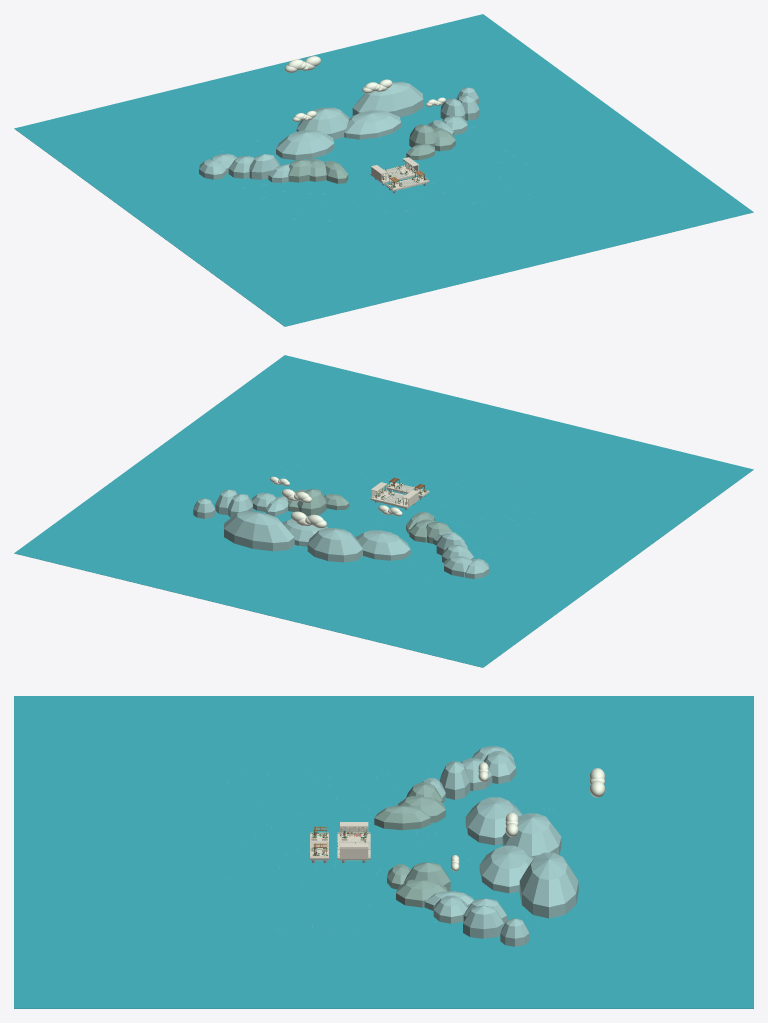
The model's file is coast.glb.
The picture shows the model from 3 angles, top to bottom: view 1: azimuth 30°, elevation 25°; view 2: azimuth 150°, elevation 25°; view 3: azimuth 270°, elevation 25°; orthographic projection. The views are drawn at different scales.
Parts seen in each view (by area): view 1: coast_background_sea, coast_background_distant, coast_background_rock, coast_background_cloud, coast_architecture_limestone; view 2: coast_background_sea, coast_background_distant, coast_background_rock, coast_background_cloud, coast_architecture_limestone; view 3: coast_background_sea, coast_background_distant, coast_background_rock, coast_architecture_limestone, coast_background_cloud.
Part boxes in pixels (bbox=[...]): coast_background_sea: bbox=[14, 14, 753, 326]; coast_background_distant: bbox=[199, 82, 479, 182]; coast_background_rock: bbox=[288, 124, 455, 183]; coast_background_cloud: bbox=[284, 56, 445, 121]; coast_architecture_limestone: bbox=[370, 157, 429, 190]; coast_background_sea: bbox=[14, 355, 753, 667]; coast_background_distant: bbox=[193, 489, 489, 578]; coast_background_rock: bbox=[287, 489, 452, 543]; coast_background_cloud: bbox=[270, 476, 402, 528]; coast_architecture_limestone: bbox=[370, 482, 429, 508]; coast_background_sea: bbox=[14, 696, 753, 1008]; coast_background_distant: bbox=[422, 746, 578, 946]; coast_background_rock: bbox=[374, 782, 450, 907]; coast_architecture_limestone: bbox=[310, 822, 370, 859]; coast_background_cloud: bbox=[451, 762, 604, 871].
Bounding box in the file's own units: 260 × 43.36 × 260.
